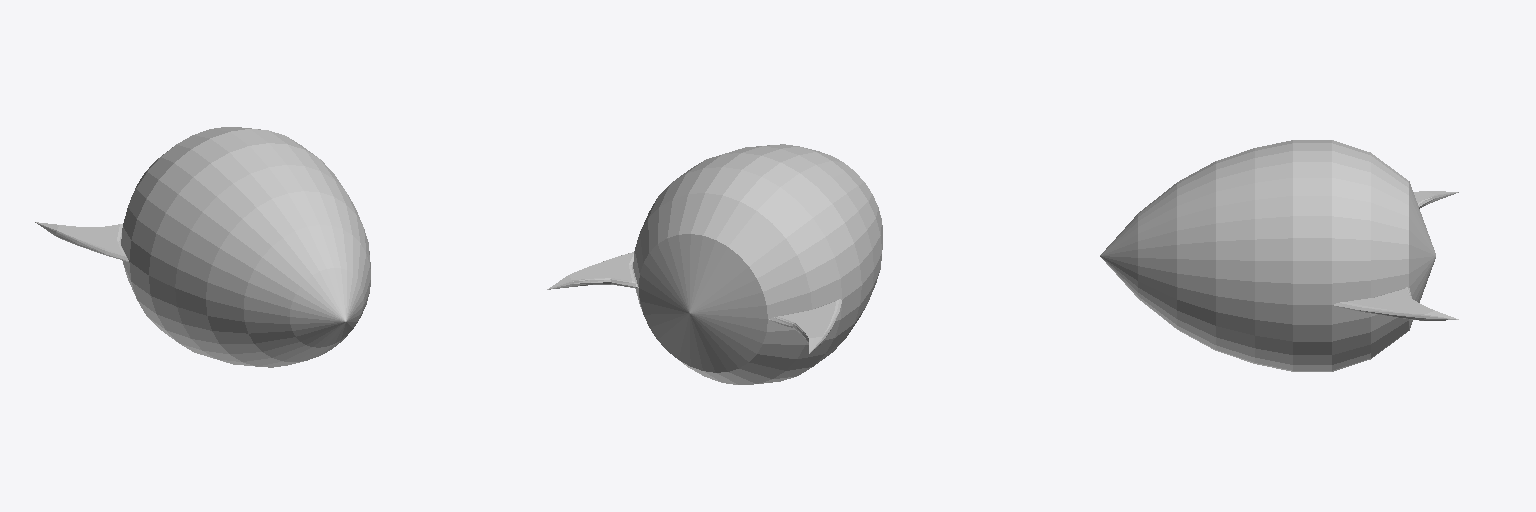
File: rocket.obj
3 views of the same model, side by side, from view 1: azimuth 30°, elevation 25°; view 2: azimuth 150°, elevation 25°; view 3: azimuth 270°, elevation 25° (orthographic).
Parts seen in each view (by area): view 1: Rocket_Rocket_Material, Wing_Wing_Material; view 2: Rocket_Rocket_Material, Wing_Wing_Material; view 3: Rocket_Rocket_Material, Wing_Wing_Material.
Part boxes in pixels (x1,y1,x2,y2): Rocket_Rocket_Material: (121,127,370,367); Wing_Wing_Material: (35,222,128,261); Rocket_Rocket_Material: (633,144,882,384); Wing_Wing_Material: (547,252,841,353); Rocket_Rocket_Material: (1100,140,1435,371); Wing_Wing_Material: (1333,191,1458,320).
Bounding box in the file's own units: 2.61 × 2 × 3.1.